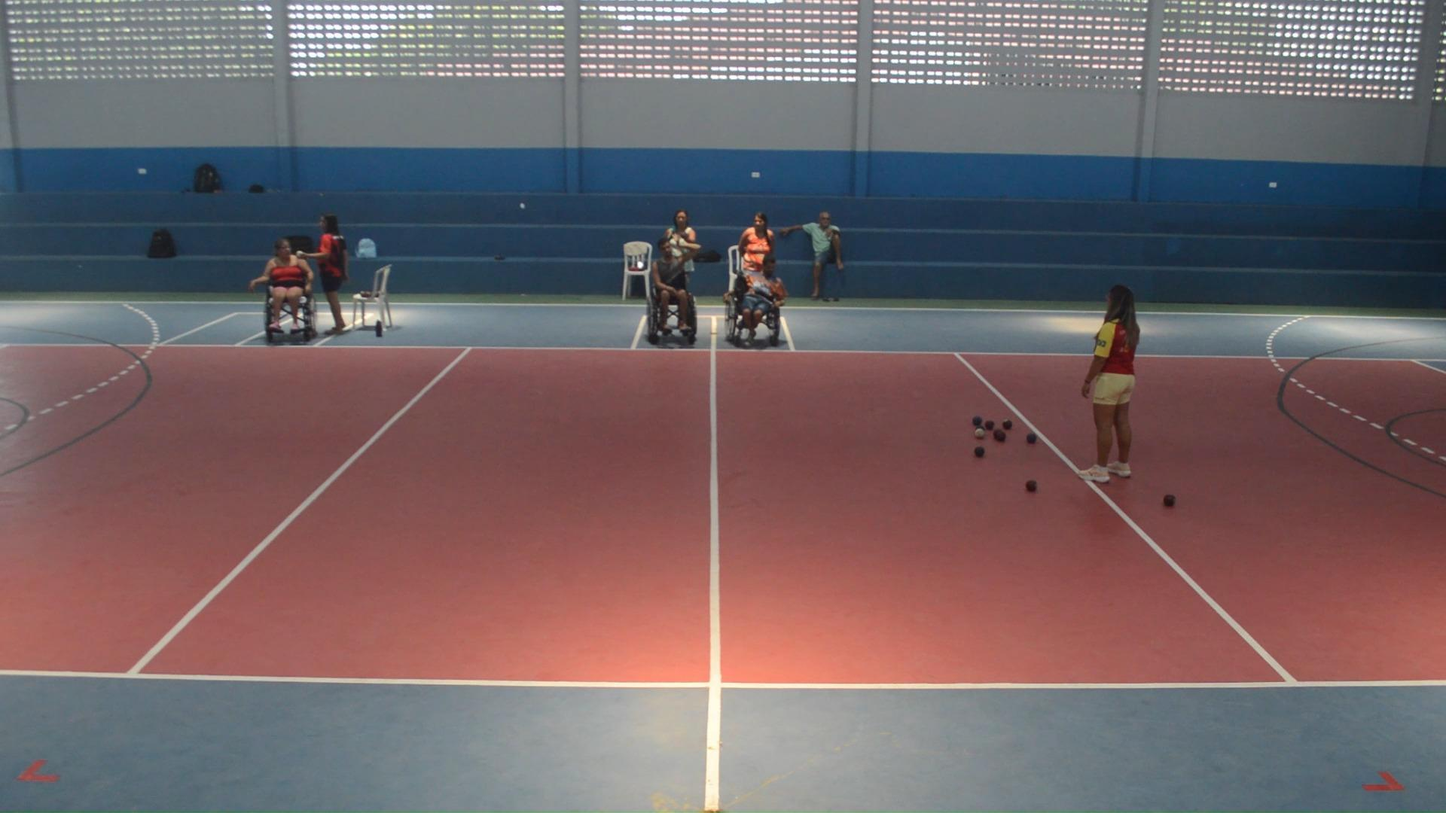blue_ball: (972, 444, 987, 459), (1024, 431, 1038, 445), (971, 414, 984, 427), (974, 424, 986, 435)
red_ball: (1161, 492, 1177, 509), (1023, 478, 1039, 494), (1000, 417, 1013, 431), (983, 418, 996, 431), (996, 430, 1008, 443), (991, 429, 1003, 441)
white_ball: (973, 428, 987, 441)
